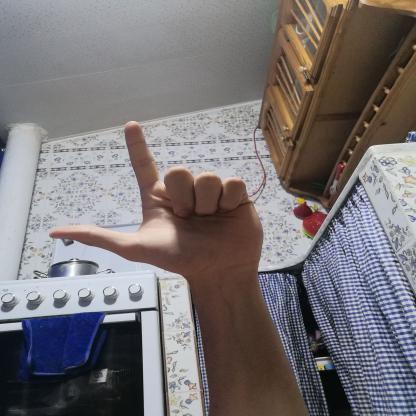LAAM: (29, 111, 275, 286)
